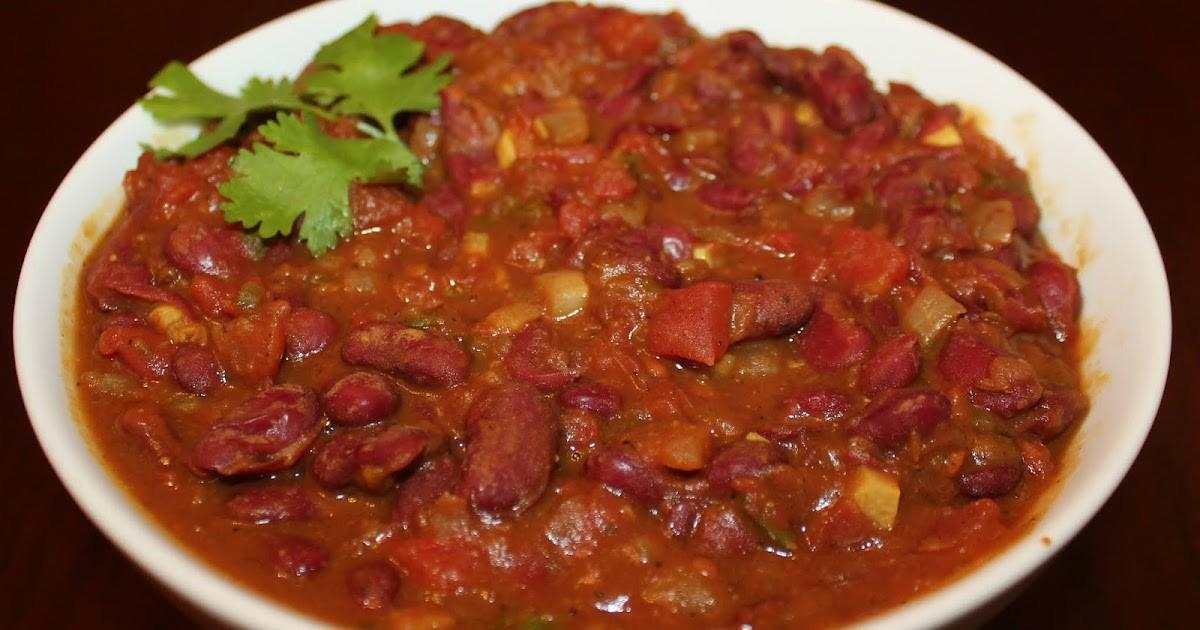RajmaCurry: (74, 0, 1089, 630)
